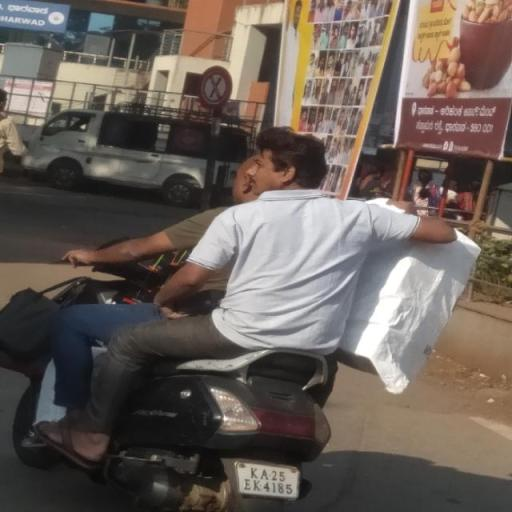bike: (8, 117, 459, 512)
numberplate: (232, 460, 306, 500)
withouthelmet: (251, 131, 326, 186), (234, 158, 255, 202)
